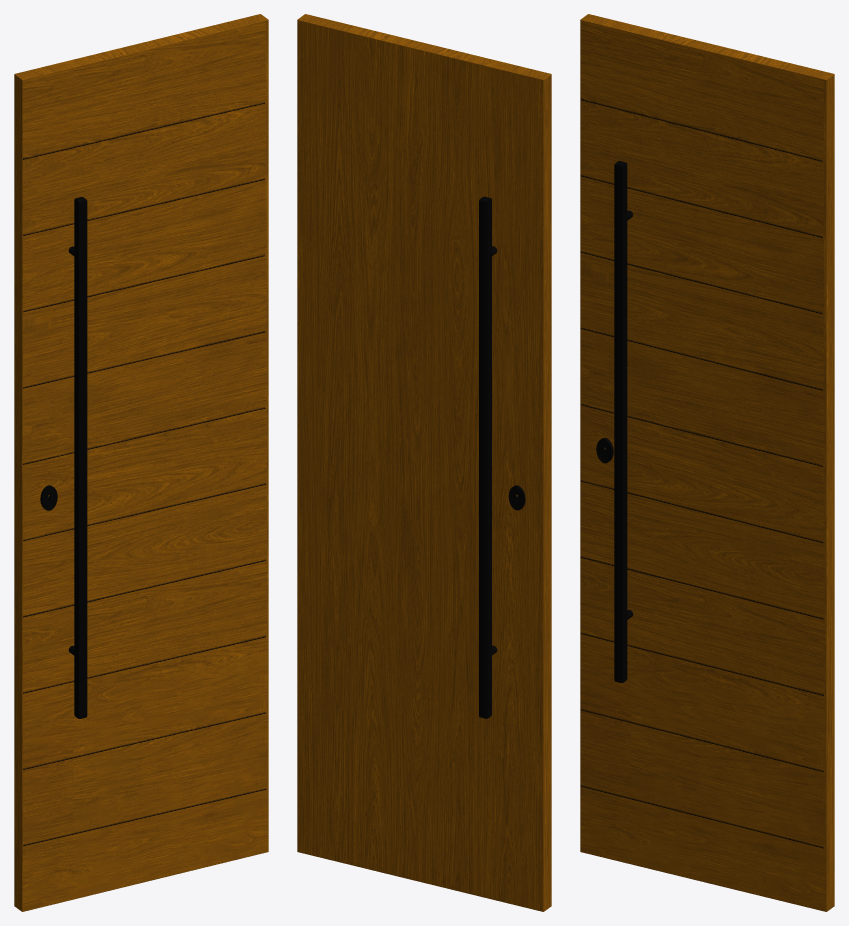
File: VL_15_3a_door.glb
3 views of the same model, side by side, from view 1: azimuth 30°, elevation 25°; view 2: azimuth 150°, elevation 25°; view 3: azimuth 330°, elevation 25° (orthographic).
Visible parts, largest first — view 1: VL_15:V_L_15__3a_door; view 2: VL_15:V_L_15__3a_door; view 3: VL_15:V_L_15__3a_door.
Boxes of the visible parts, <box> form: VL_15:V_L_15__3a_door: <box>14,14,268,911</box>; VL_15:V_L_15__3a_door: <box>297,14,551,911</box>; VL_15:V_L_15__3a_door: <box>580,14,834,911</box>.
Bounding box in the file's own units: 0.5468 × 1.76 × 0.1188.
Materials: 1 (1 with a texture image).
